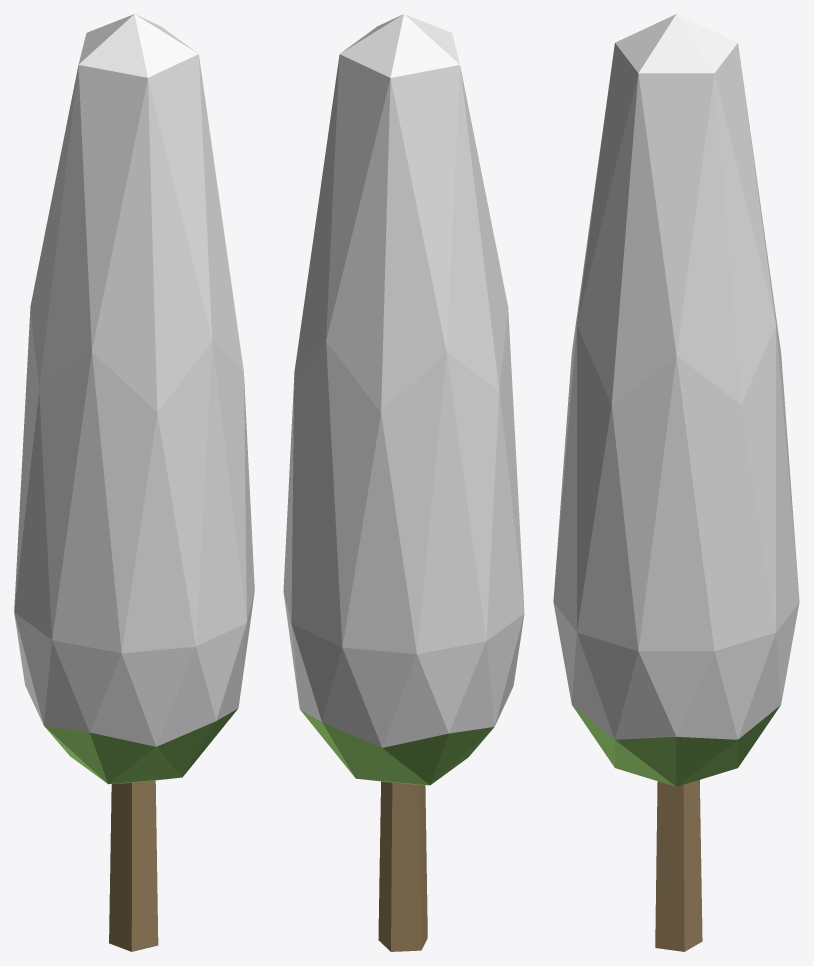
The model's file is Thuja_Tree_m_Snow_05_LOD.fbx.
3 views of the same model, side by side, from view 1: azimuth 30°, elevation 25°; view 2: azimuth 150°, elevation 25°; view 3: azimuth 270°, elevation 25° (orthographic).
Visible parts, largest first — view 1: Thuja_Tree_m_Snow_05_LOD0; view 2: Thuja_Tree_m_Snow_05_LOD0; view 3: Thuja_Tree_m_Snow_05_LOD0.
Boxes of the visible parts, box(x1,y1,x2,y2) form: Thuja_Tree_m_Snow_05_LOD0: box(14, 14, 254, 951); Thuja_Tree_m_Snow_05_LOD0: box(283, 14, 524, 951); Thuja_Tree_m_Snow_05_LOD0: box(553, 14, 799, 951).
Size of what is drawn, in the model's own units: 114 by 499 by 120.
